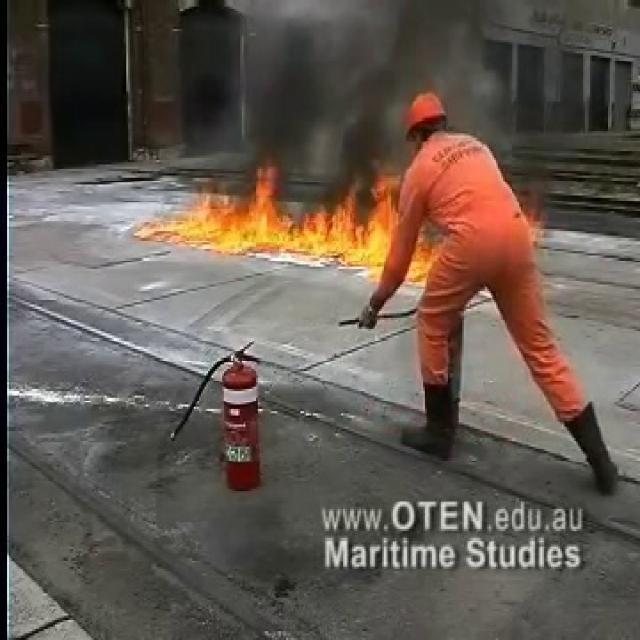Fire: (135, 166, 395, 262)
Smoke: (186, 0, 556, 176)
